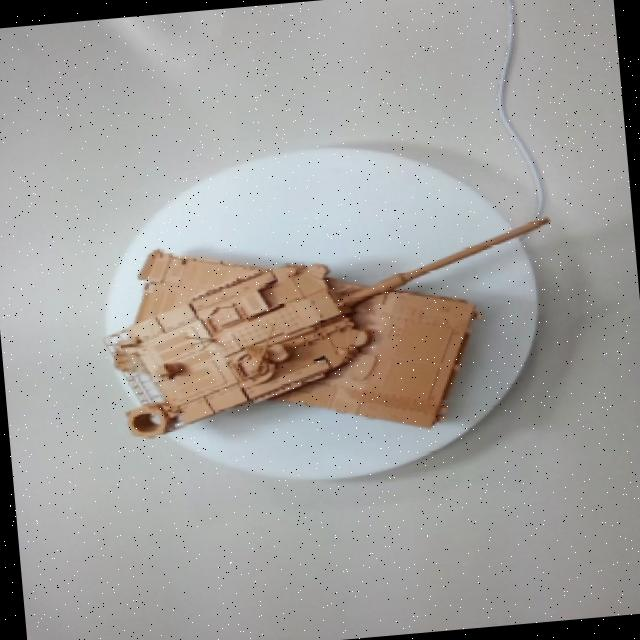korea tank: (60, 155, 585, 500)
